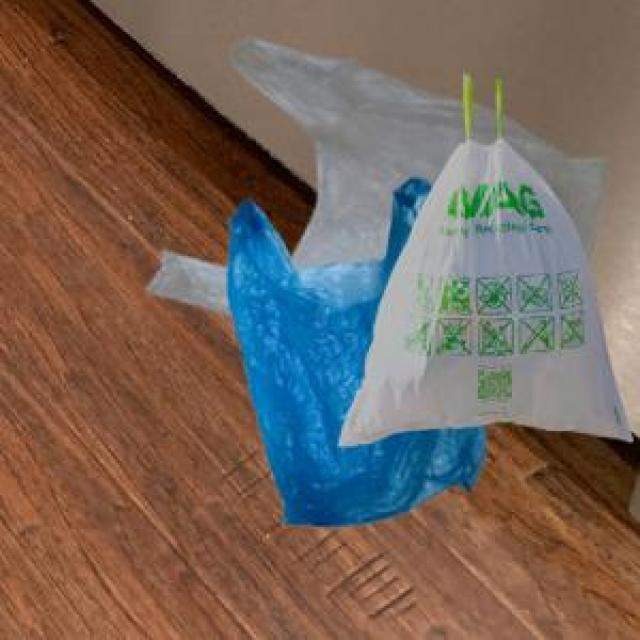waste: (149, 40, 631, 524)
